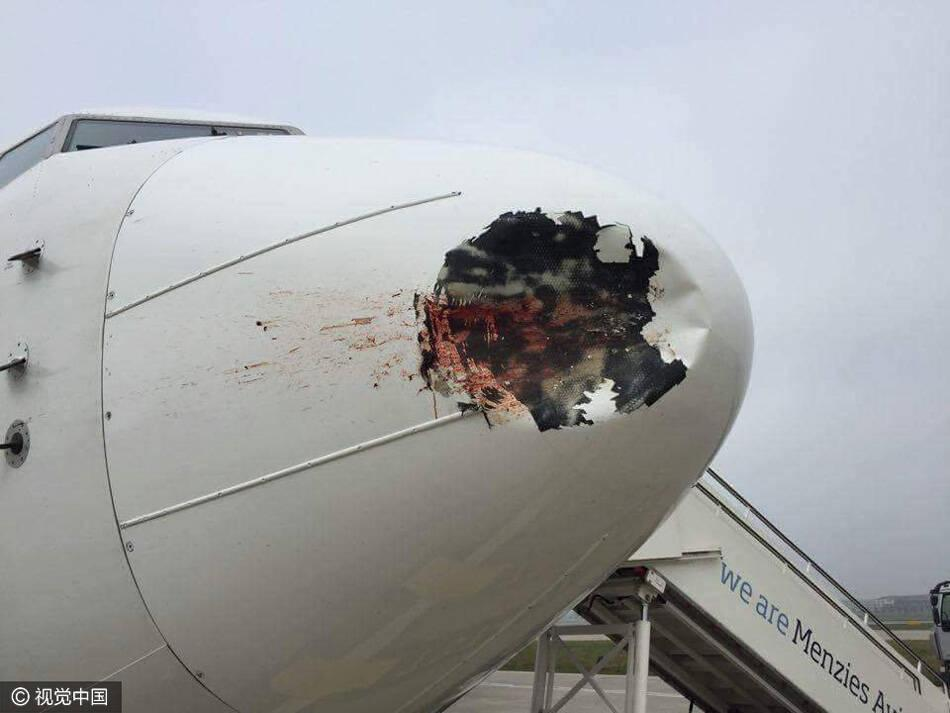Cracks: (392, 209, 695, 446)
Dents or Deformation: (662, 249, 718, 386)
Scratches: (233, 299, 383, 379)
